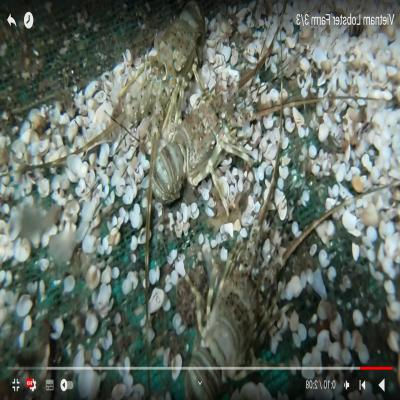lobster: (151, 77, 246, 211), (199, 246, 276, 364), (133, 10, 205, 128)
